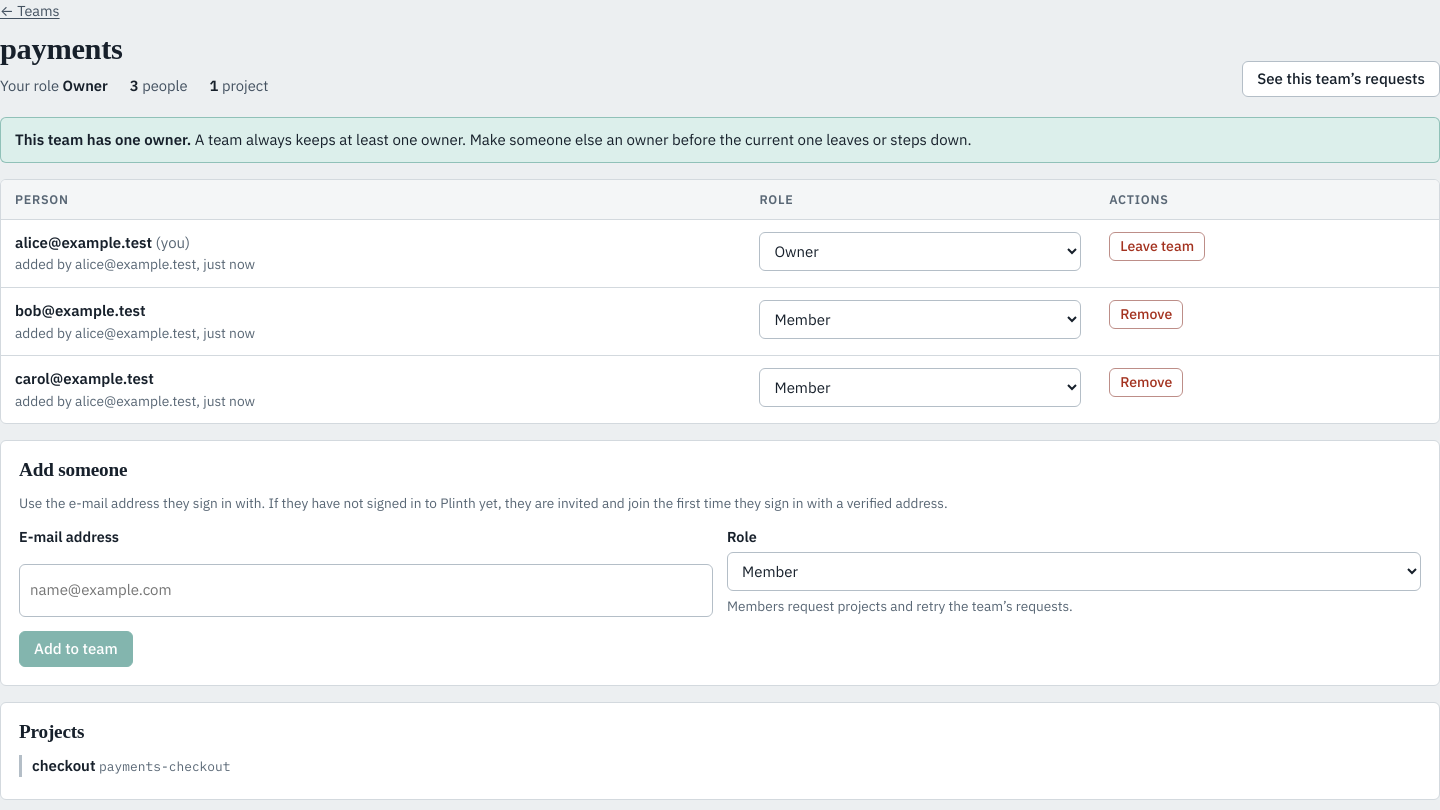
Test: team page for an owner › adds a person by e-mail with the chosen role and refreshes
This screenshot has width=1440, height=810.
Step 1. Type "  dave@example.test " into the field labelled "E-mail address" → (366, 591), box [19,564,713,617]
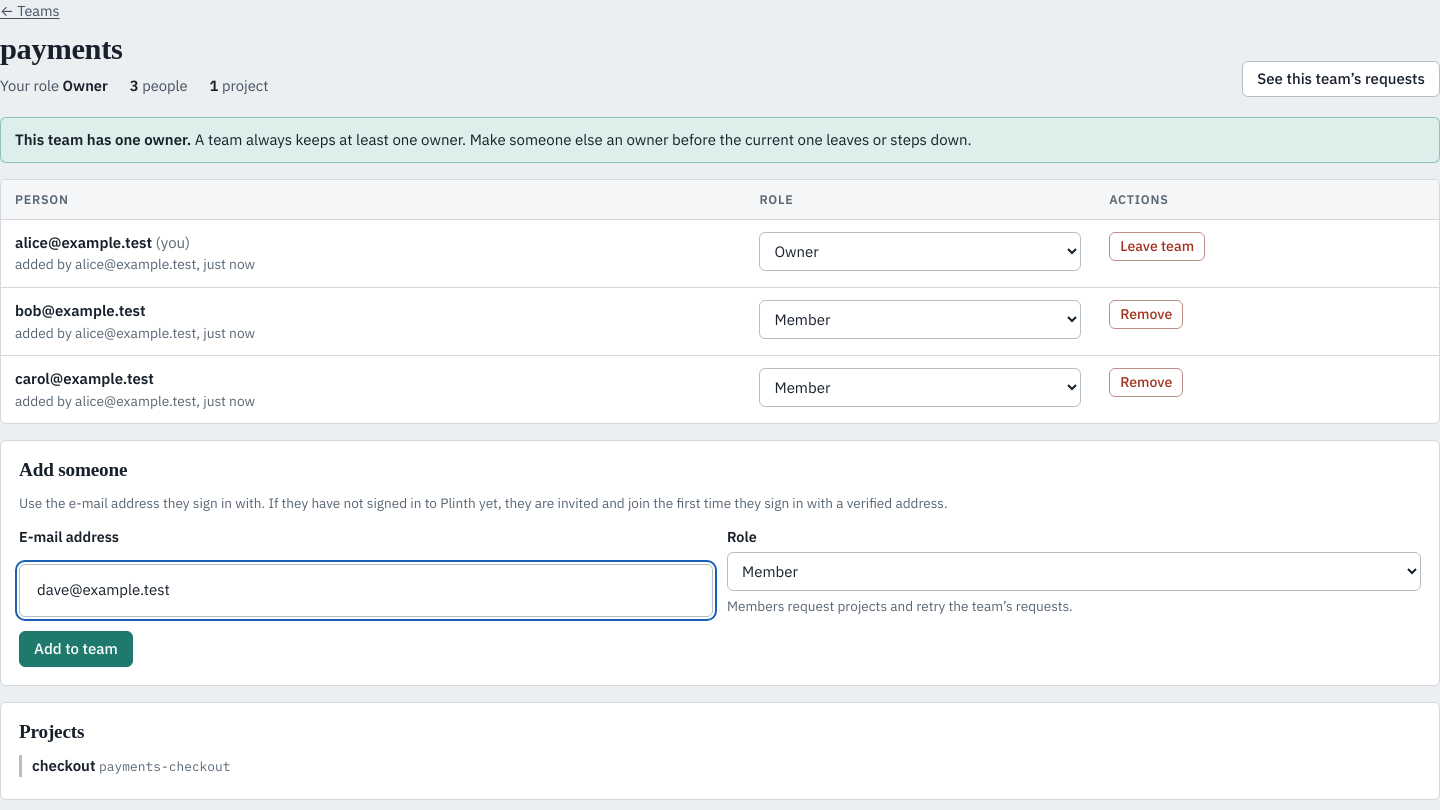
Step 2. Select "Owner" in the dropdown labelled "Role" → (1074, 572), box [727,552,1421,591]
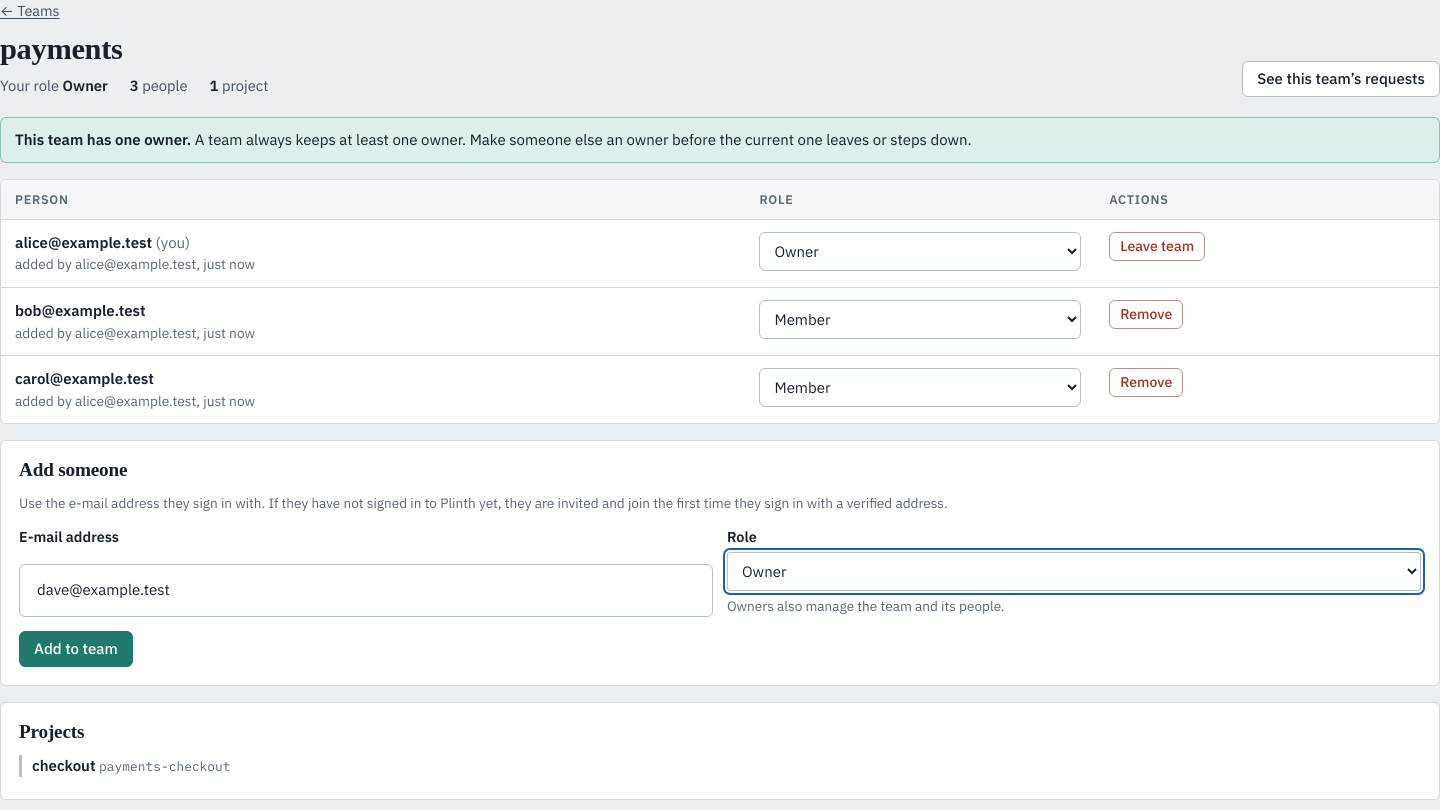
Step 3. Click the button "Add to team" → (76, 649), box [19,631,133,667]
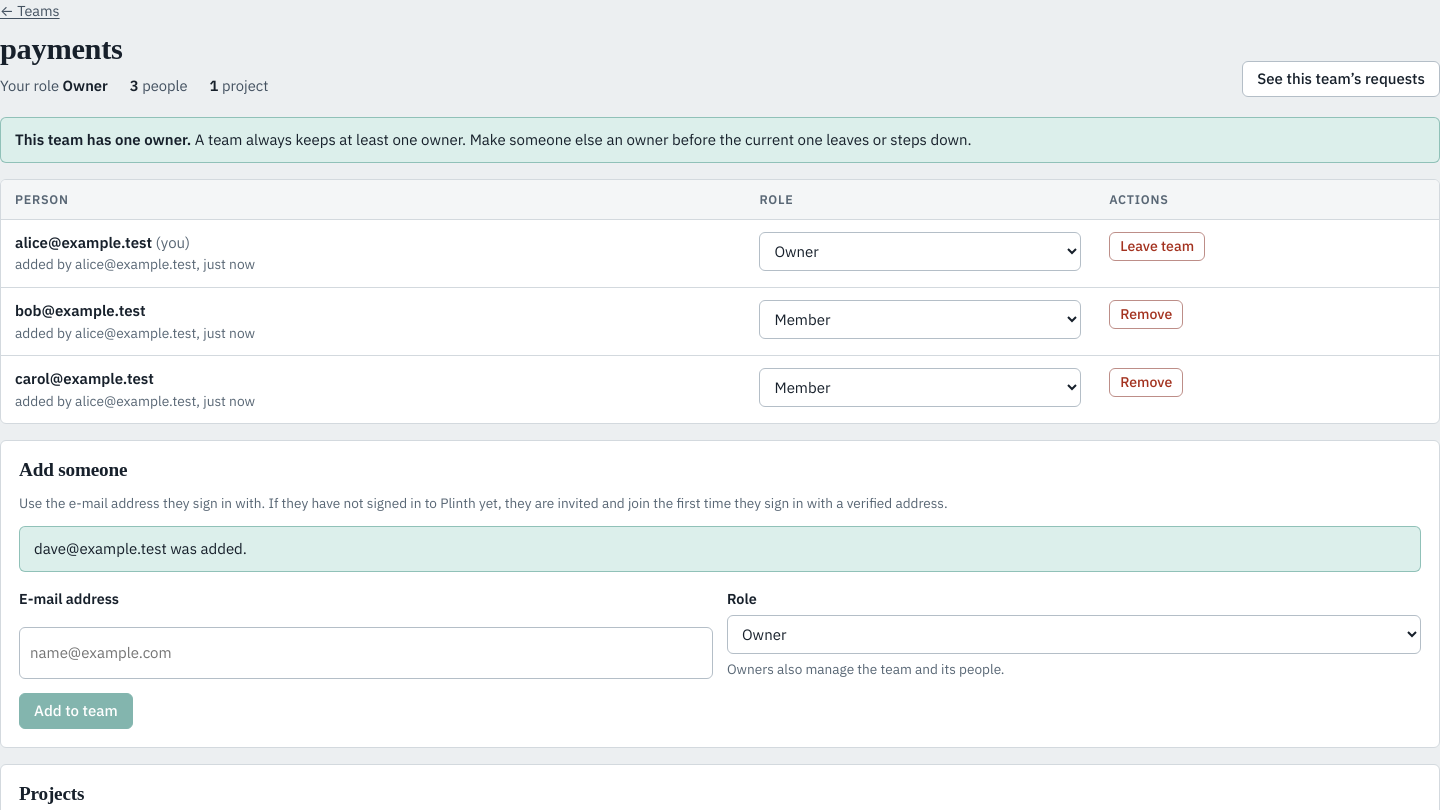
Check: the text "dave@example.test was added." is shown, box [19,526,1421,572]
